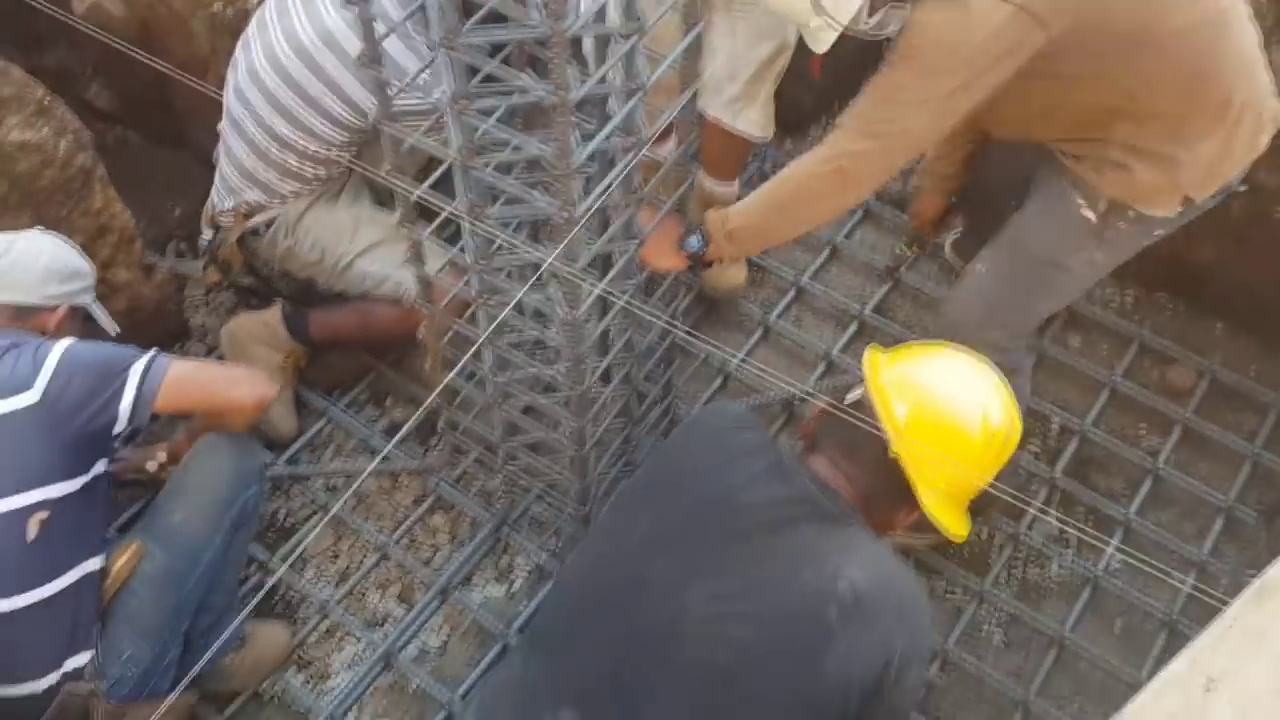helmet: (862, 345, 1023, 540)
helmet-off: (0, 229, 104, 355)
helmet-on: (774, 346, 1018, 551)
person: (643, 0, 1276, 340), (457, 343, 1025, 713), (0, 213, 288, 718), (189, 0, 481, 423)
